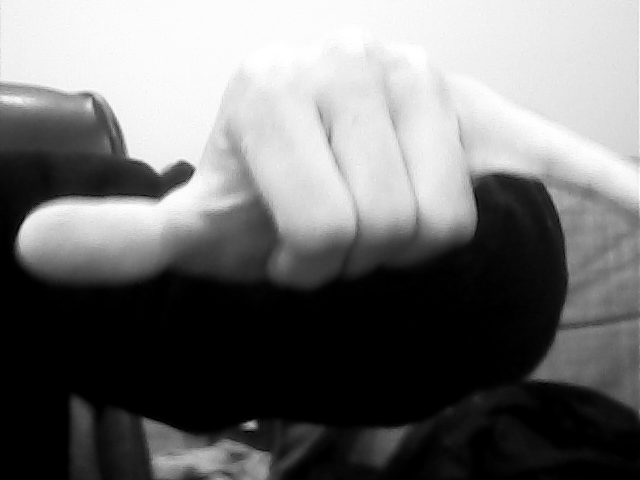aloha: (13, 33, 639, 300)
